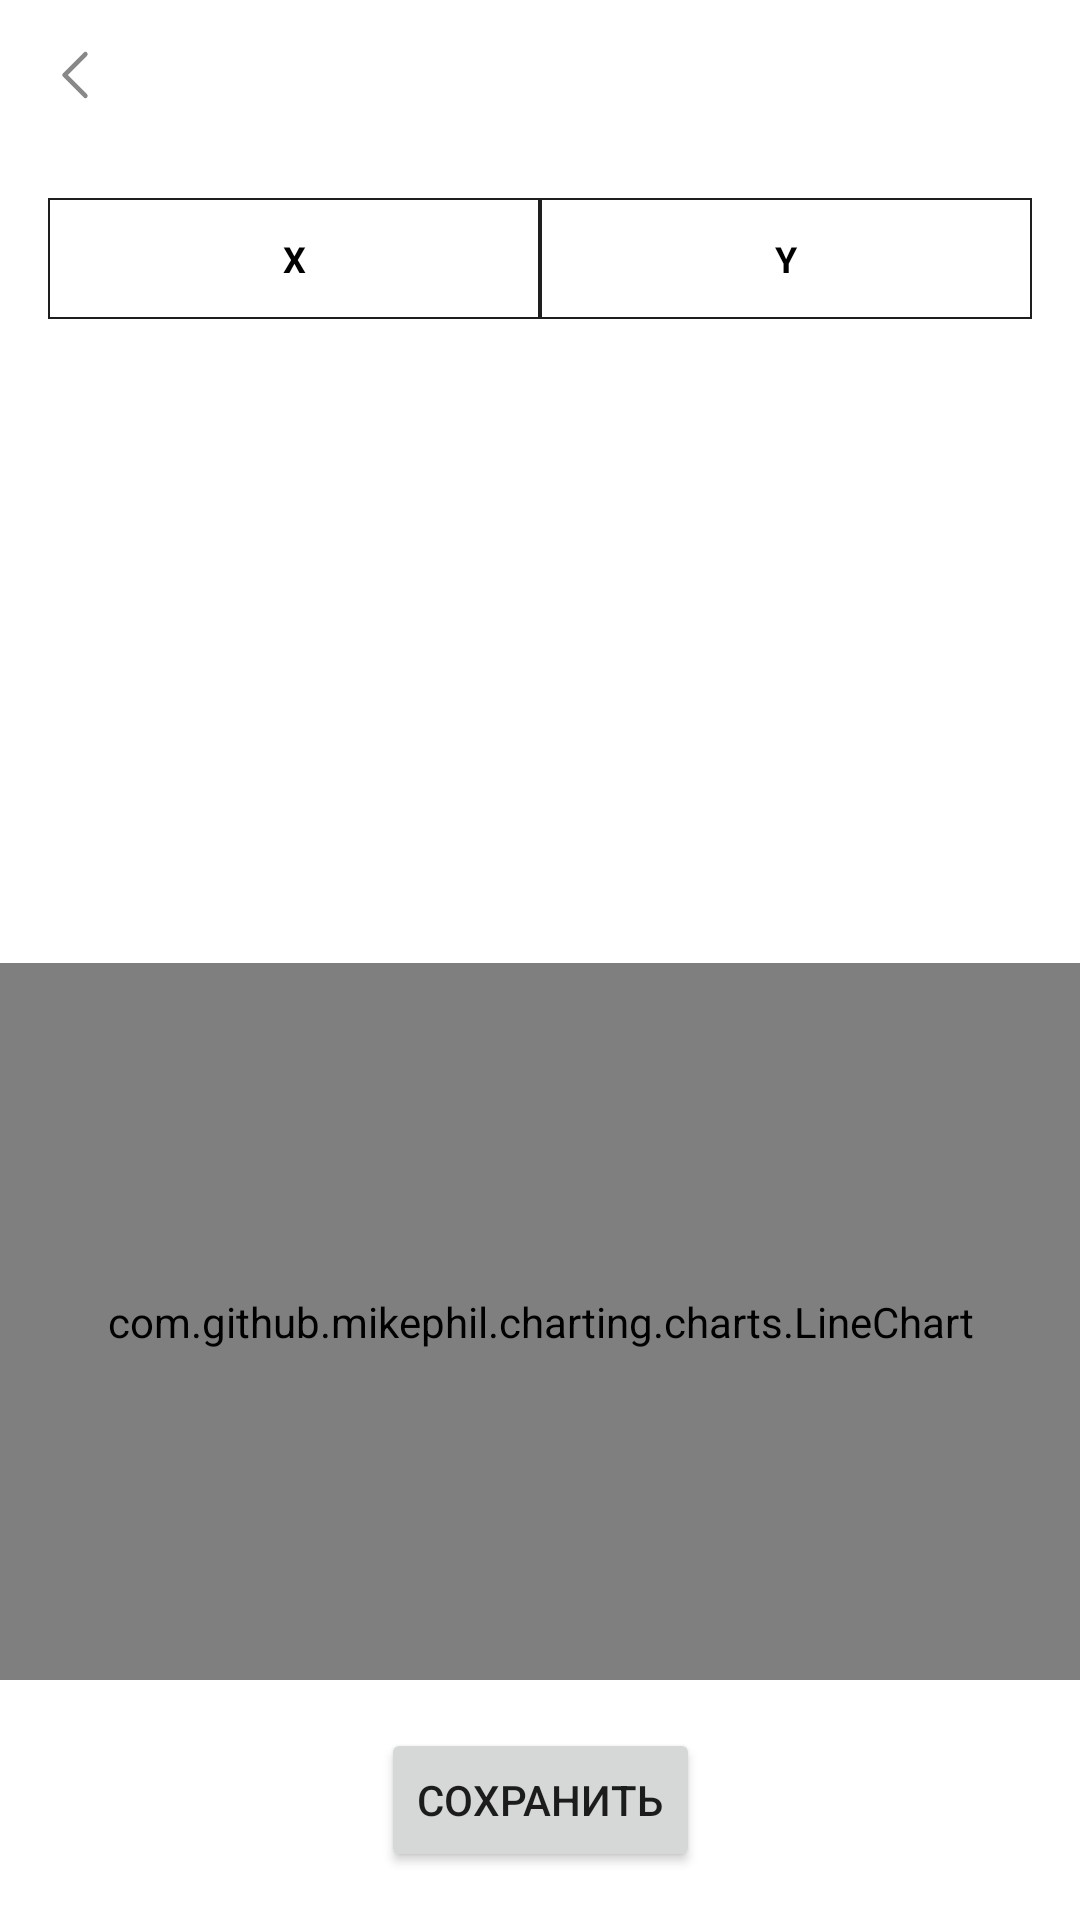

Point at icon controls on the screen. Image size 1080x1920, points as [x,y].
back: [75,75]
